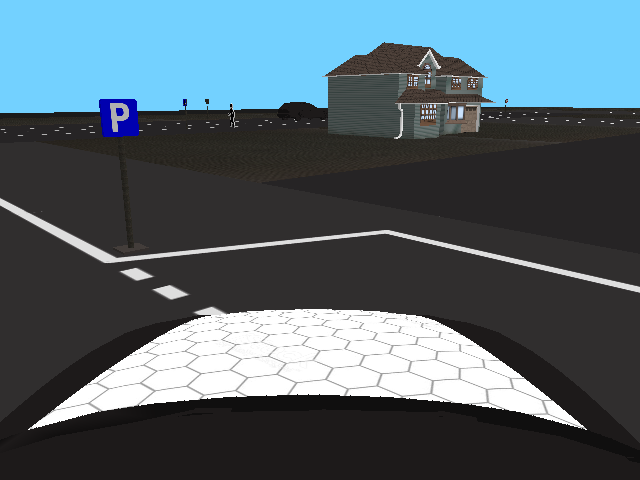parking: (98, 99, 138, 137)
